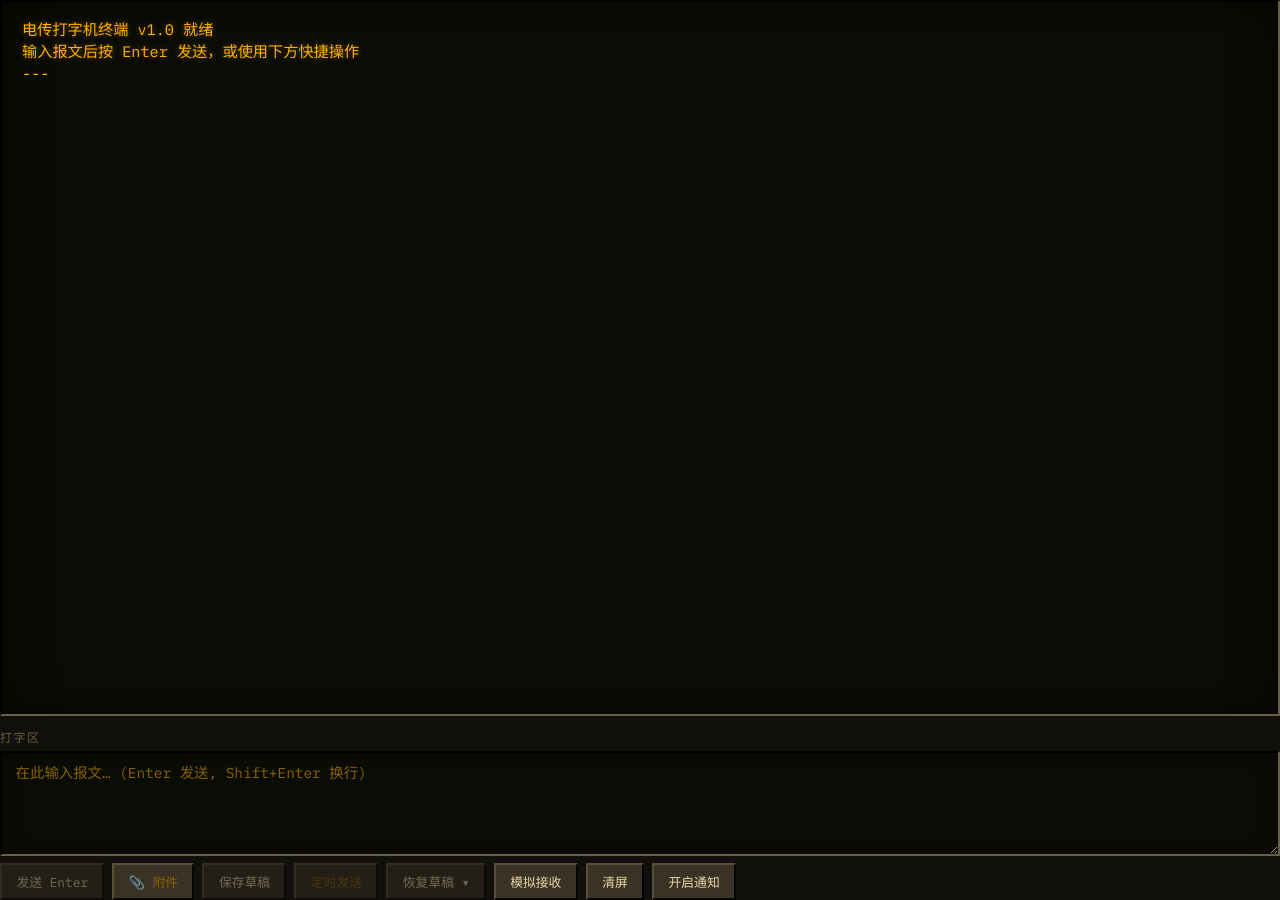
it: TerminalPage › 模拟接收功能 › 点击模拟接收按钮应该触发接收流程并设置打印状态
Click the button "模拟接收": (536, 881) [494, 863, 578, 899]
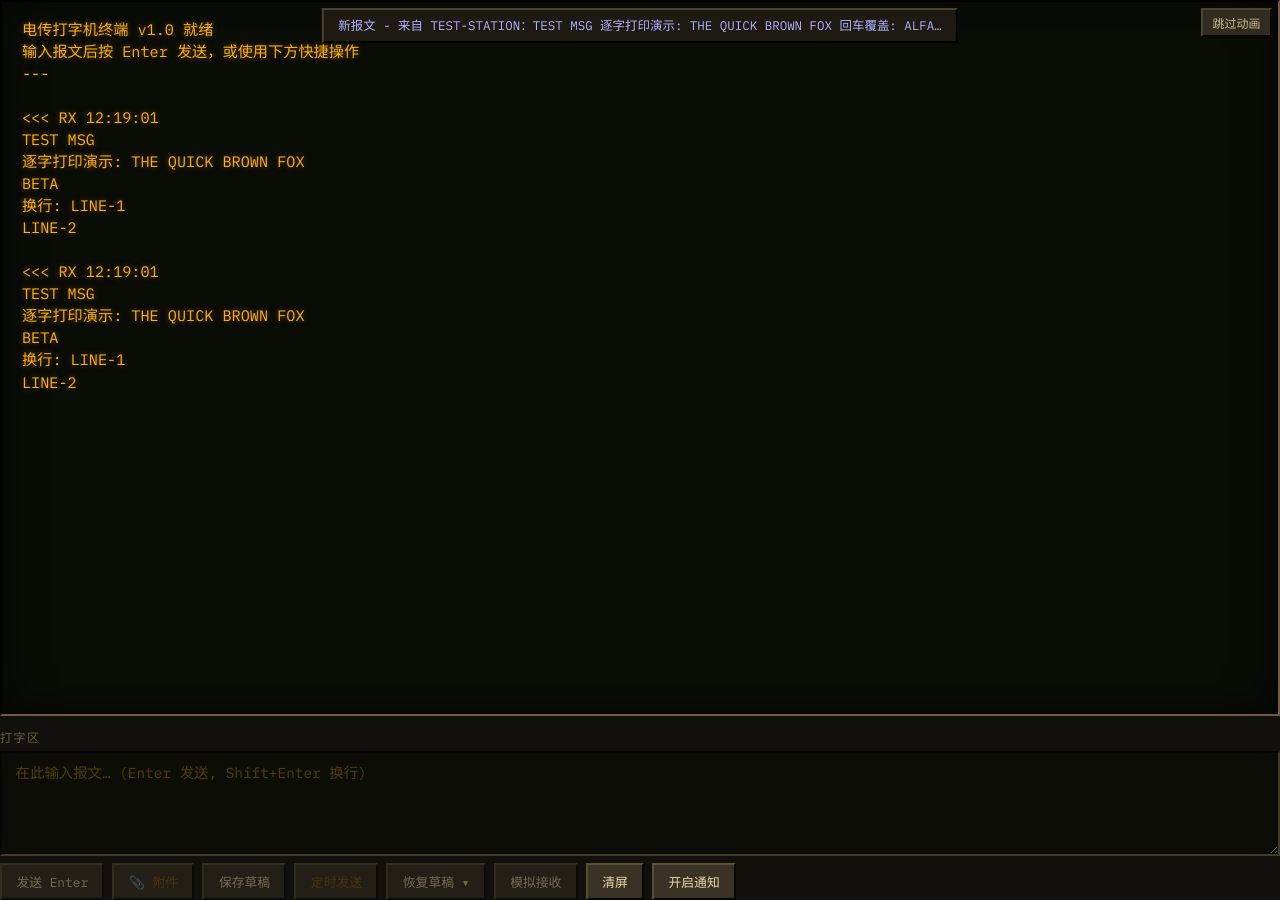
Check: the button "跳过动画" is shown, box [1201, 8, 1272, 37]
